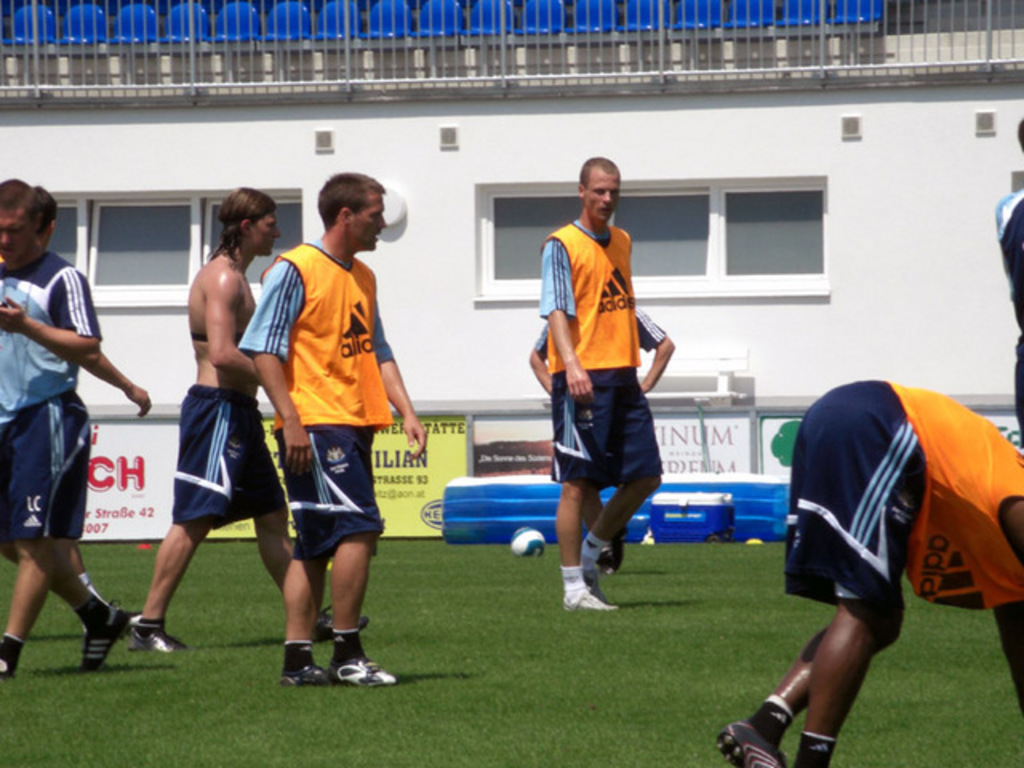Ball: (510, 526, 549, 558)
